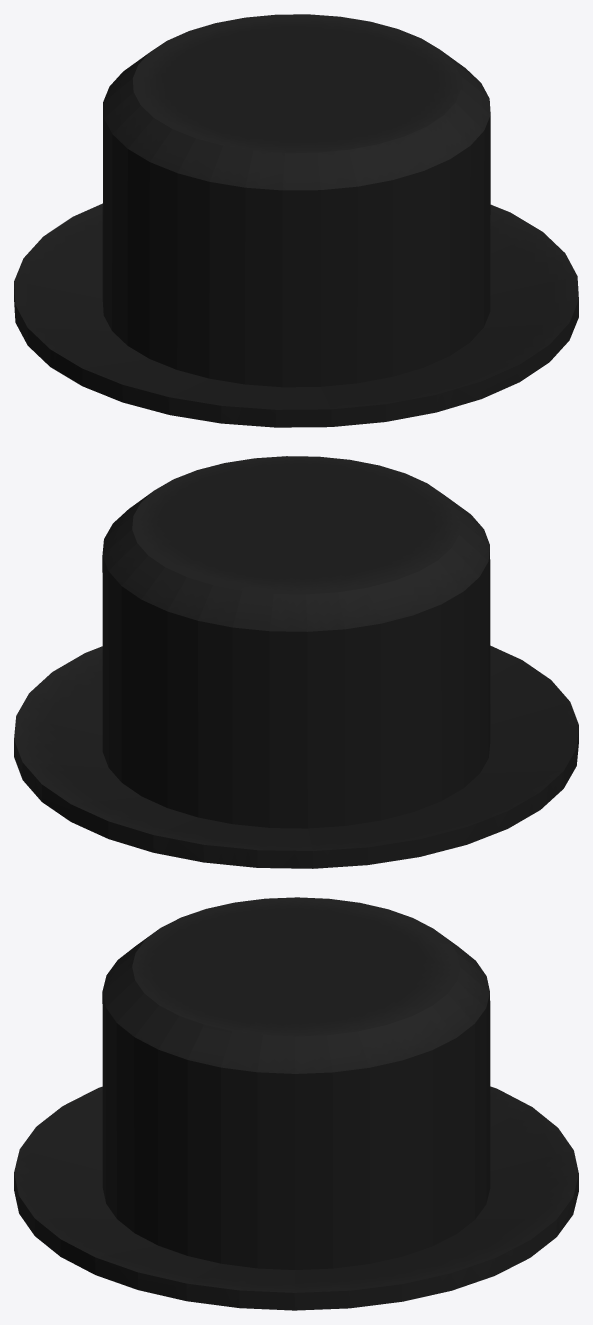
File: WorldItem_Art_HatGround.fbx
The picture shows the model from 3 angles, top to bottom: view 1: azimuth 30°, elevation 25°; view 2: azimuth 150°, elevation 25°; view 3: azimuth 270°, elevation 25°; orthographic projection.
Visible parts, largest first — view 1: Cylinder; view 2: Cylinder; view 3: Cylinder.
Part boxes in pixels (left/top/right/bottom): Cylinder: left=14, top=14, right=578, bottom=427; Cylinder: left=14, top=456, right=578, bottom=868; Cylinder: left=14, top=897, right=578, bottom=1310.
Size of the model in its own units: 0.0661 by 0.0297 by 0.0661.
